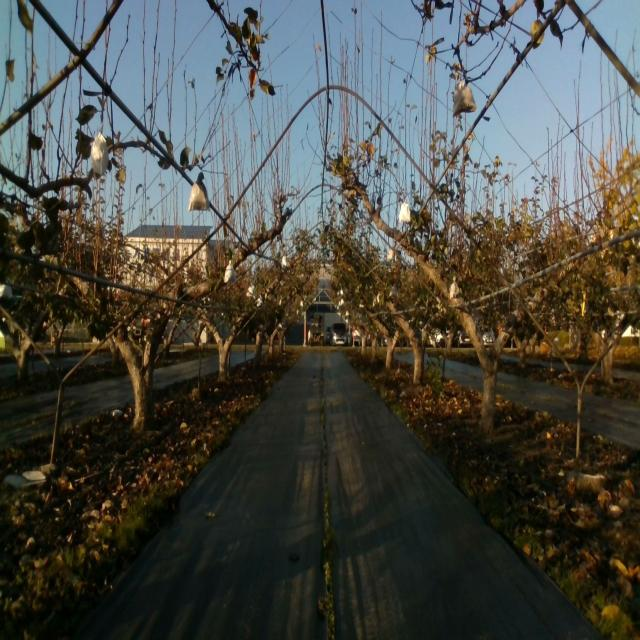pearbags: (188, 169, 210, 214), (452, 80, 477, 116), (90, 132, 110, 174), (224, 260, 237, 282), (399, 201, 411, 224)
